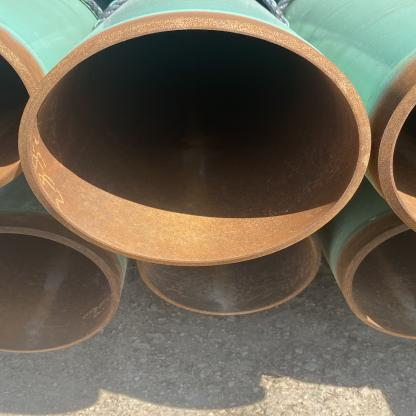clean: (132, 7, 182, 43)
